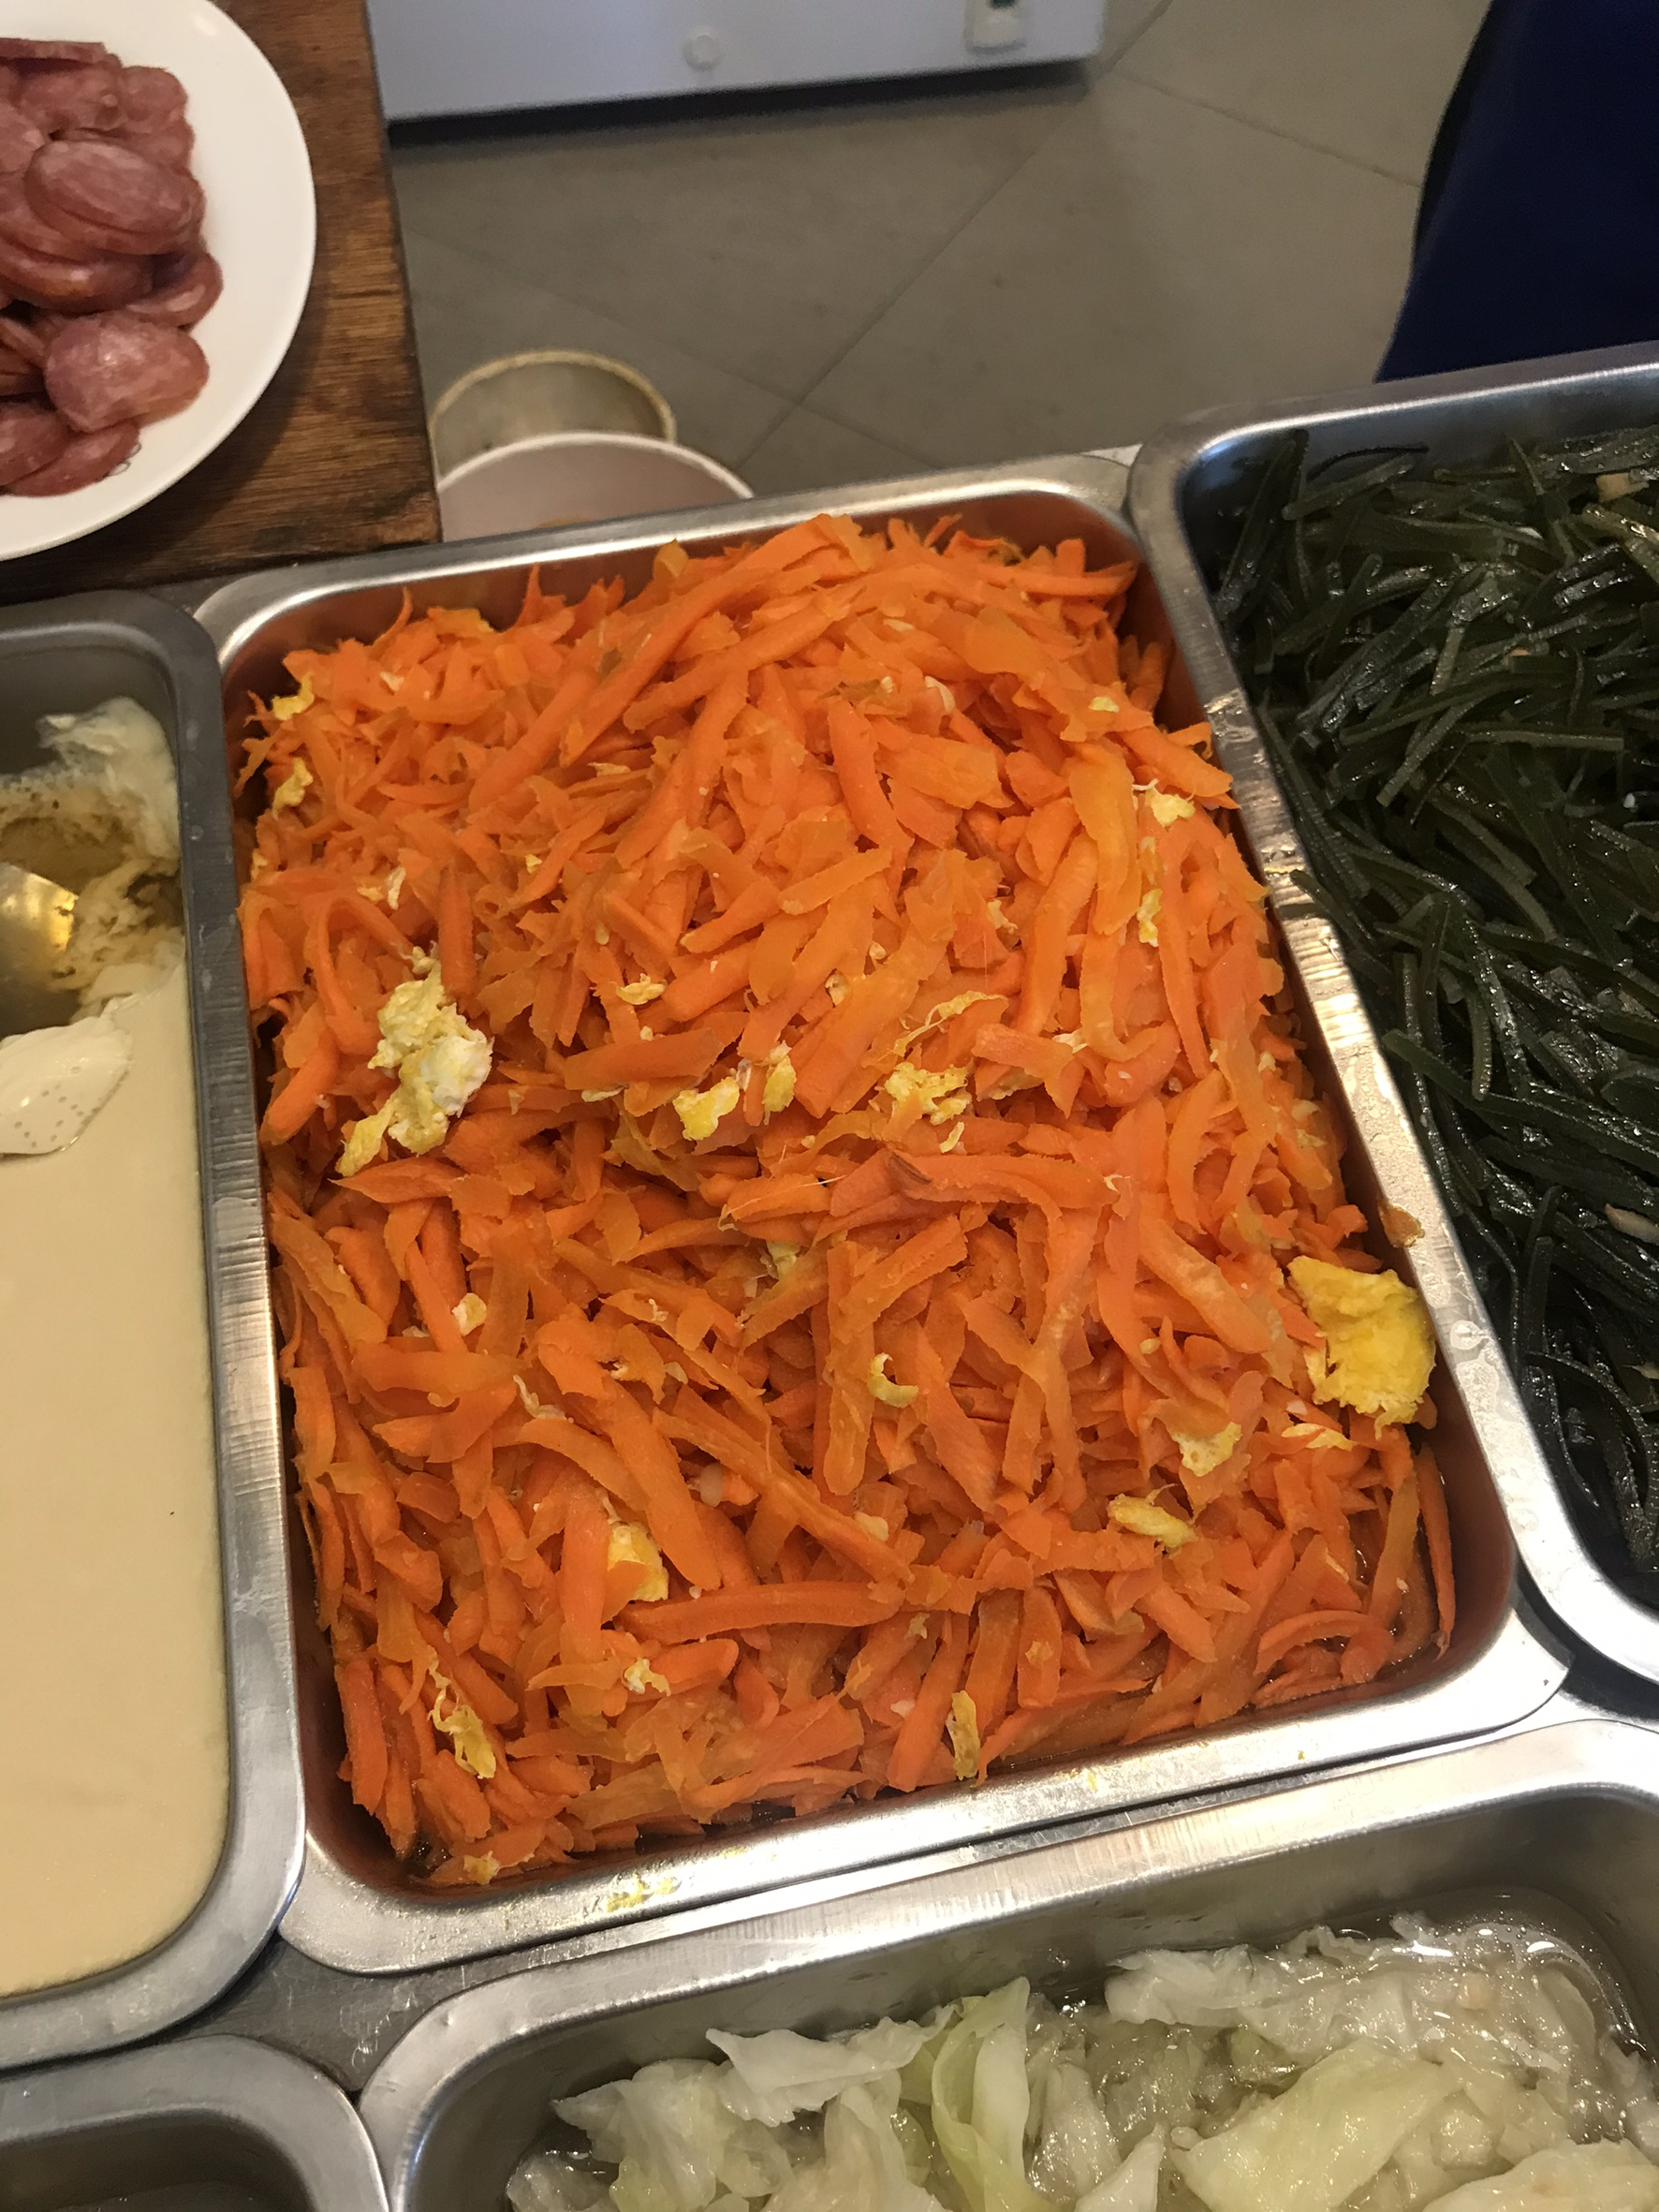carrot_eggs: (293, 551, 1309, 1771)
chinese_sausage: (2, 44, 220, 493)
